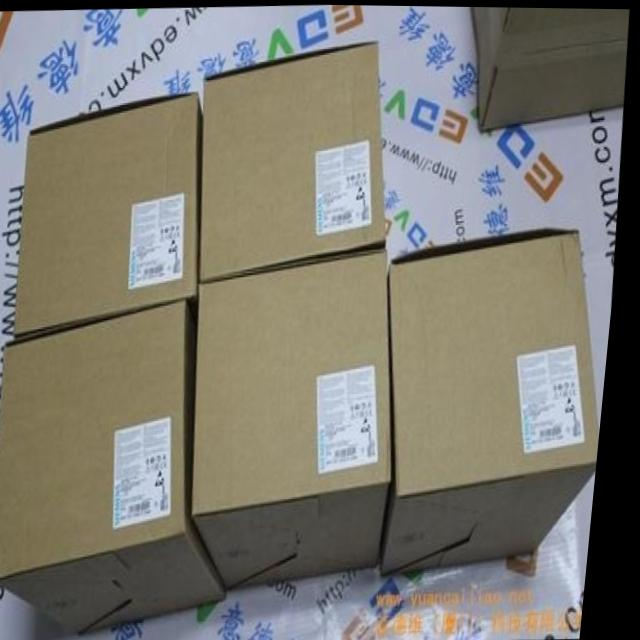box: (1, 298, 238, 637), (388, 223, 608, 574), (201, 246, 400, 589), (19, 91, 203, 335), (204, 39, 390, 279), (471, 5, 629, 130)
